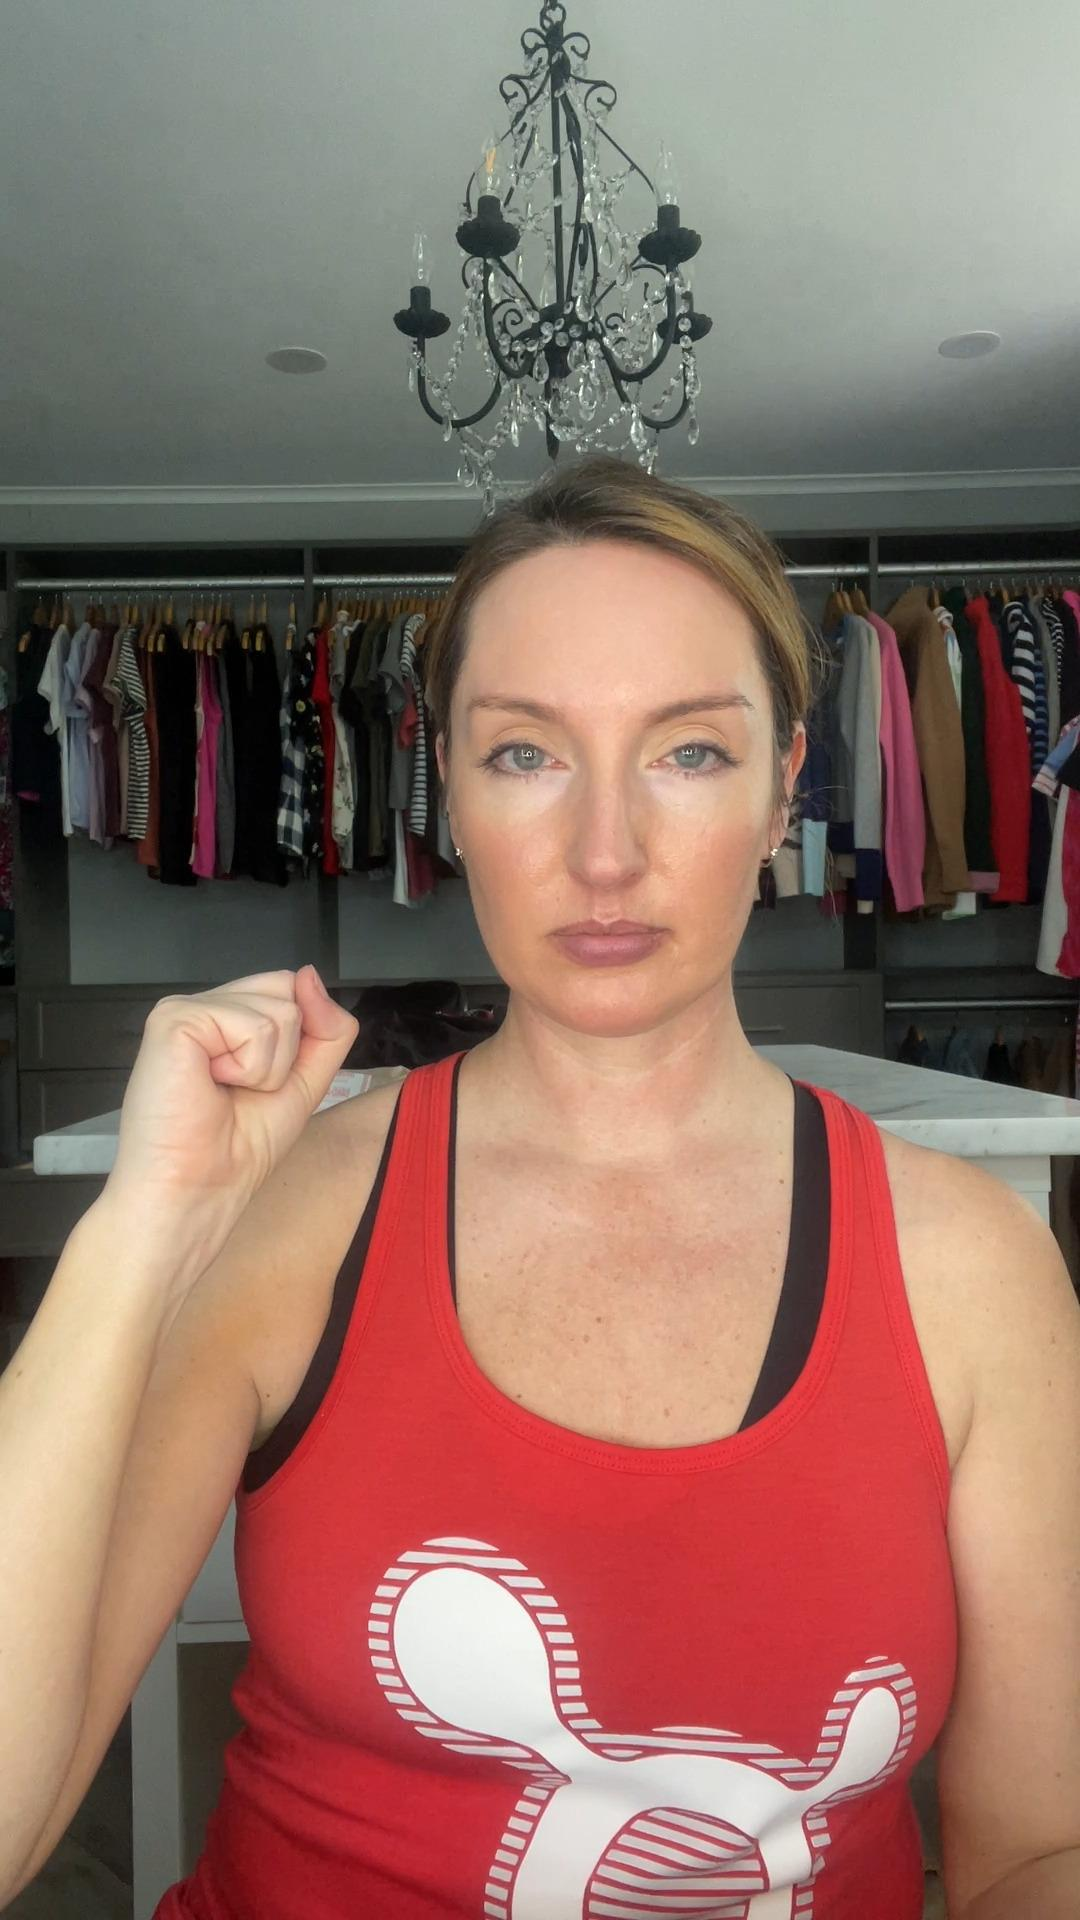Rock: (124, 967, 357, 1247)
